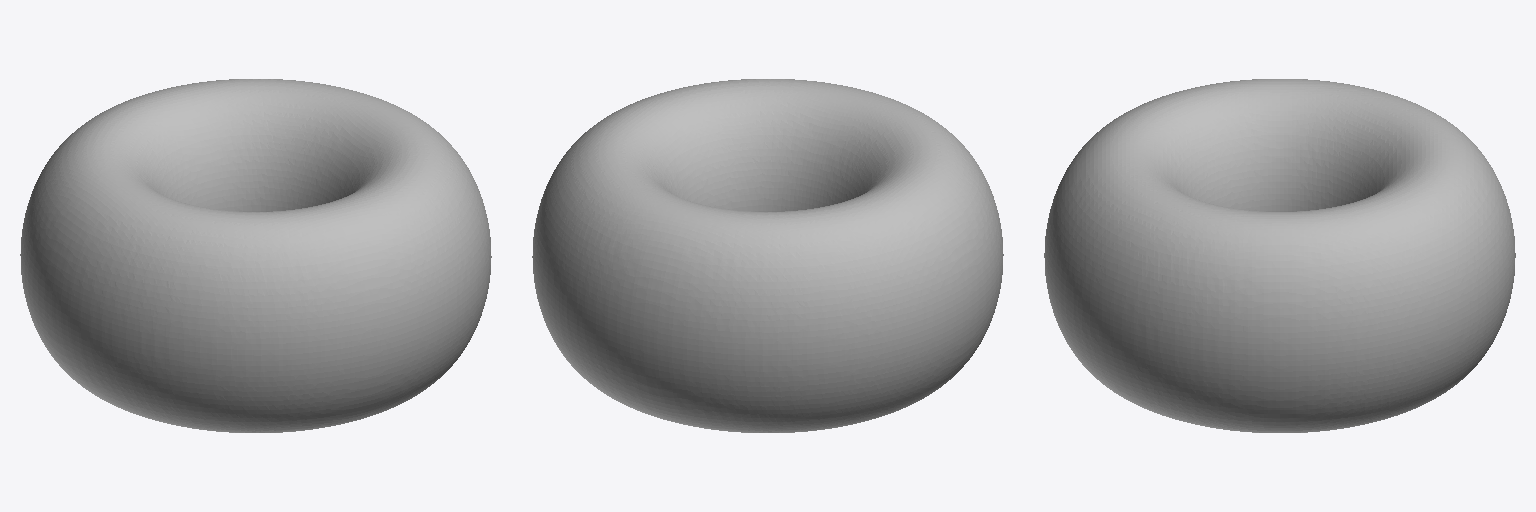
The robot description file, URDF, robot "root":
<robot name="root">
  <link name="link_001">
    <visual>
      <origin xyz="0 0 0" rpy="0 0 0"/>
      <geometry>
        <mesh filename="torussmall.obj" scale="1.0000E+00 1.0000E+00 1.5000E+00"/>
      </geometry>
      <material name="">
        <color rgba="7.50E-01 7.50E-01 7.50E-01 1"/>
      </material>
    </visual>
    <collision>
      <origin xyz="0 0 0" rpy="0 0 0"/>
      <geometry>
        <mesh filename="torussmall.obj" scale="1.0000E+00 1.0000E+00 1.5000E+00"/>
      </geometry>
    </collision>
    <inertial>
      <mass value="0.16"/> <!-- 质量：0.1kg -->
    </inertial>
  </link>
</robot>

--- Facts derived from the render (not from the file) ---
The picture shows the robot from 3 angles, left to right: view 1: azimuth 30°, elevation 25°; view 2: azimuth 150°, elevation 25°; view 3: azimuth 270°, elevation 25°; orthographic projection.
Model root with 1 links and 0 joints (none), rooted at link_001, posed every joint at zero.
Visible links, largest first — view 1: link_001; view 2: link_001; view 3: link_001.
Boxes of the visible links, x1=… form: link_001: x1=20, y1=79, x2=491, y2=432; link_001: x1=532, y1=79, x2=1003, y2=432; link_001: x1=1044, y1=79, x2=1515, y2=432.
Size in the robot's own frame: 0.0409 by 0.0409 by 0.0203 metres.
1 mesh visuals loaded from 1 distinct referenced files (1 OBJ).
